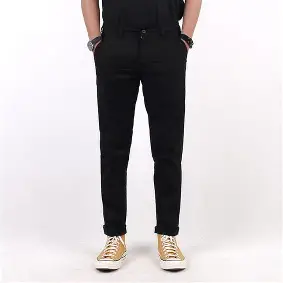celana_benar: (93, 26, 190, 235)
